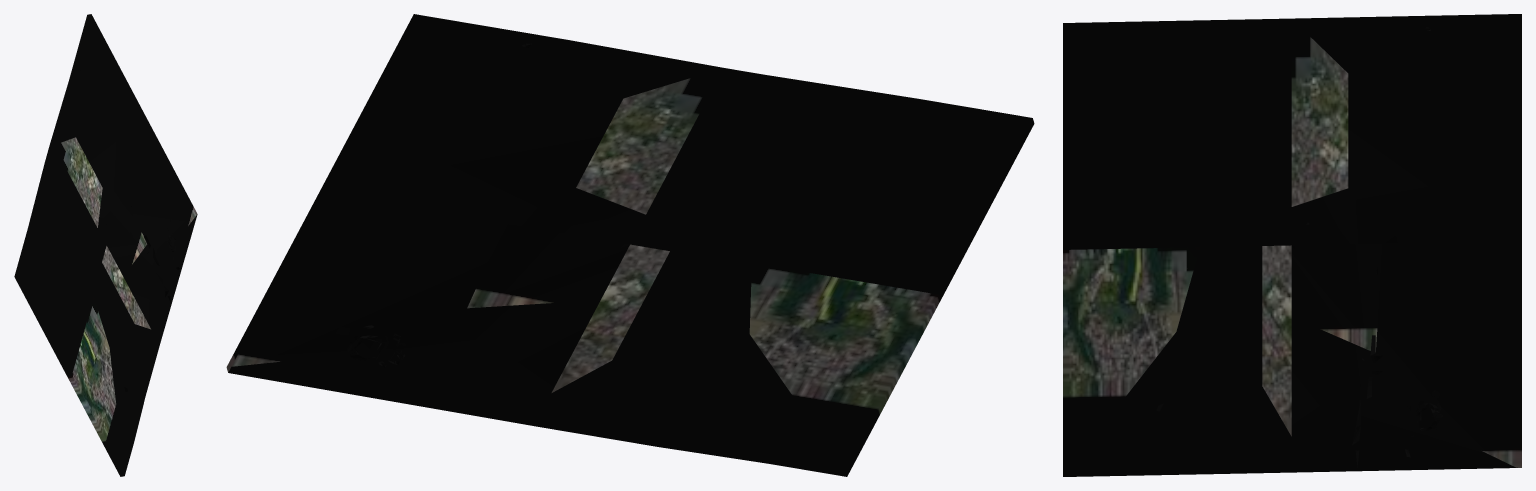
3 views of the same model, side by side, from view 1: azimuth 30°, elevation 25°; view 2: azimuth 150°, elevation 25°; view 3: azimuth 270°, elevation 25° (orthographic). The views are drawn at different scales.
Visible parts, largest first — view 1: node_3043627270437_mesh0; view 2: node_3043627270437_mesh0; view 3: node_3043627270437_mesh0.
Boxes of the visible parts, <box> form: node_3043627270437_mesh0: <box>14,14,197,476</box>; node_3043627270437_mesh0: <box>226,14,1034,476</box>; node_3043627270437_mesh0: <box>1063,14,1521,476</box>.
Size of the model in its own units: 4656 by 4669 by 3536.
1 material, 1 textured.
